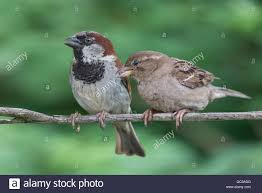hsparrow: (58, 29, 148, 168), (115, 46, 253, 134)
